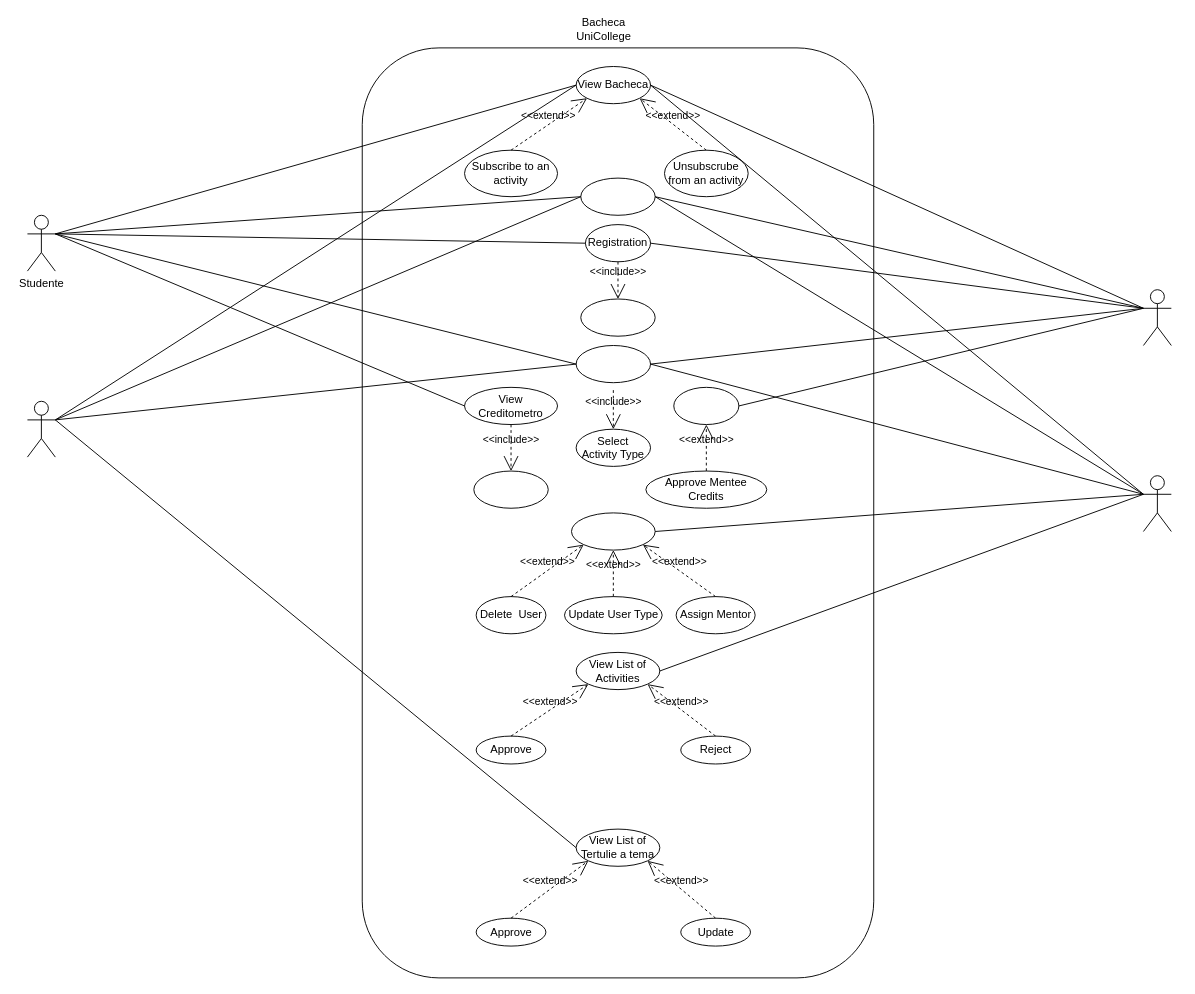
Some shapes in this 1195 by 994 pixel diagram are drawn without their labels. Each missing label, with the centre of its shape:
Add New Activity: point (613, 364)
Direttore: point (1157, 503)
Login: point (617, 196)
Segreteria: point (41, 428)
Send email with token: point (617, 317)
Tutor: point (1157, 317)
View List of Mentee: point (706, 405)
View List User: point (613, 531)
View Total Credits: point (510, 489)
